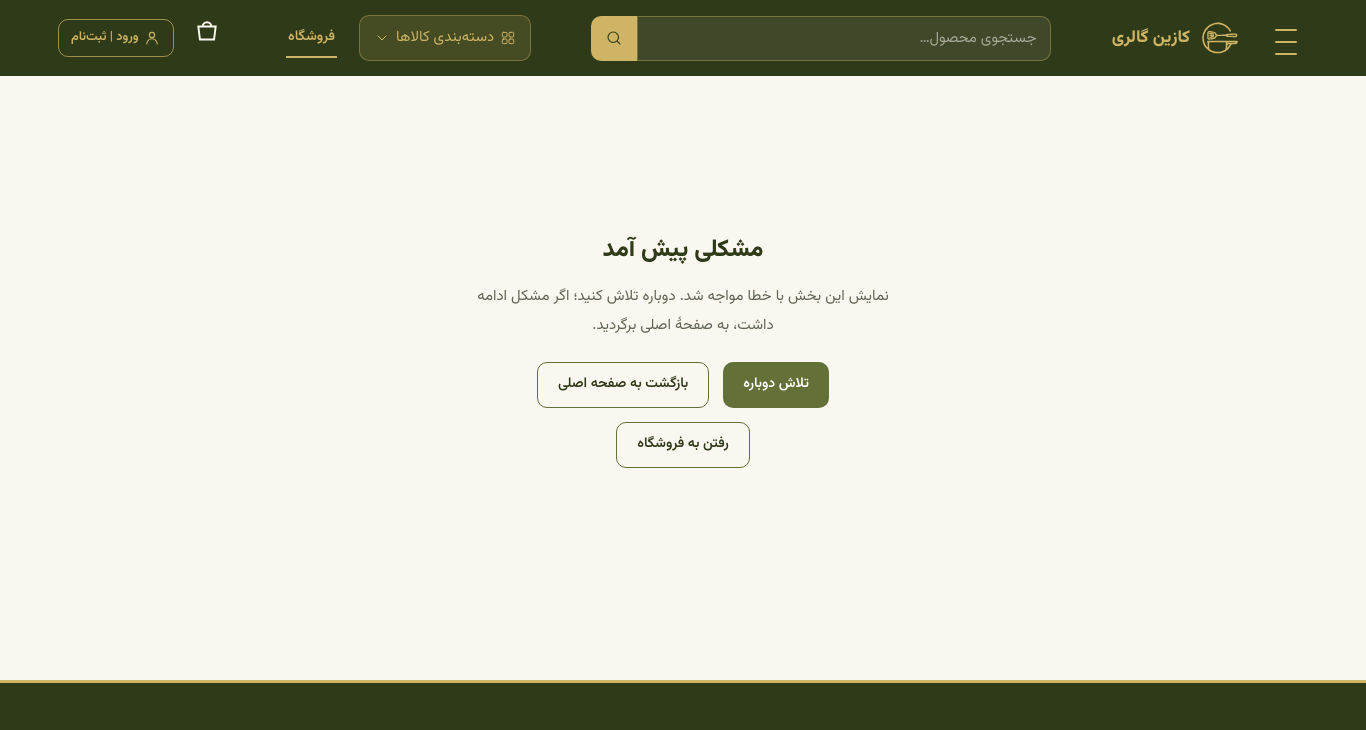
Test case: route error recovery navigation › also resets after header search changes only the query string
Expected: the heading "مشکلی پیش آمد" is shown, 603,231 -> 763,269
Step 1. Type "قابلمه" into the search field labelled "جستجوی محصول" → (844, 38), box 637,16 -> 1051,60
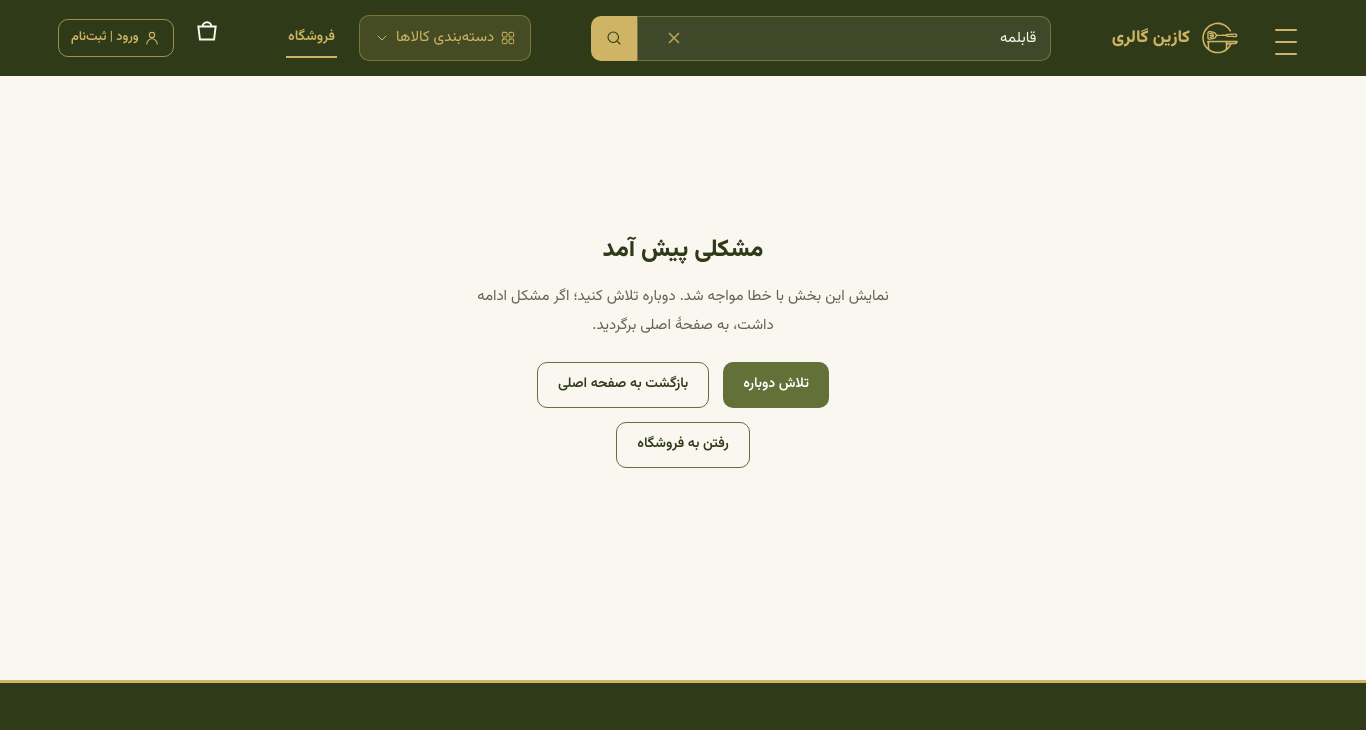
Step 2. Submit the form named "جستجوی محصول", box 591,16 -> 1051,60
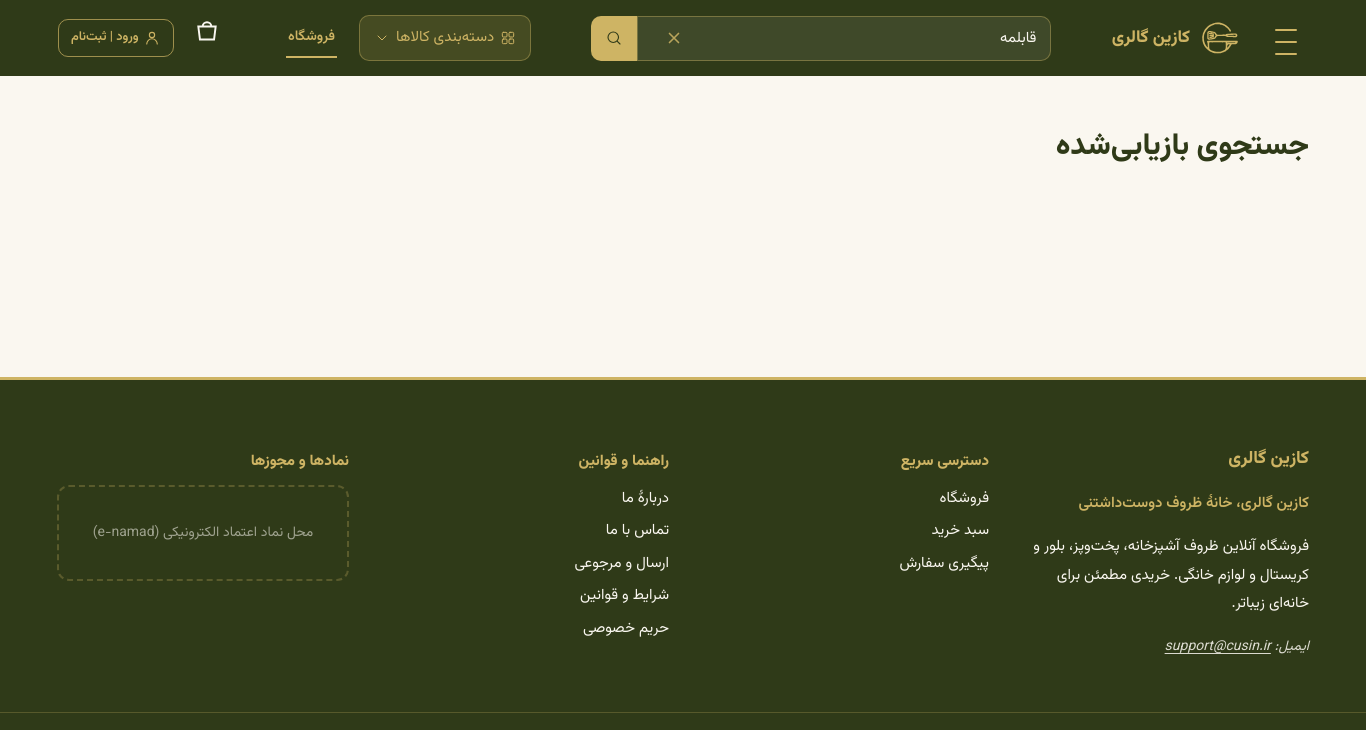
Expected: the heading "جستجوی بازیابی‌شده" is shown, 1056,123 -> 1309,170
Expected: the heading "مشکلی پیش آمد" is gone
